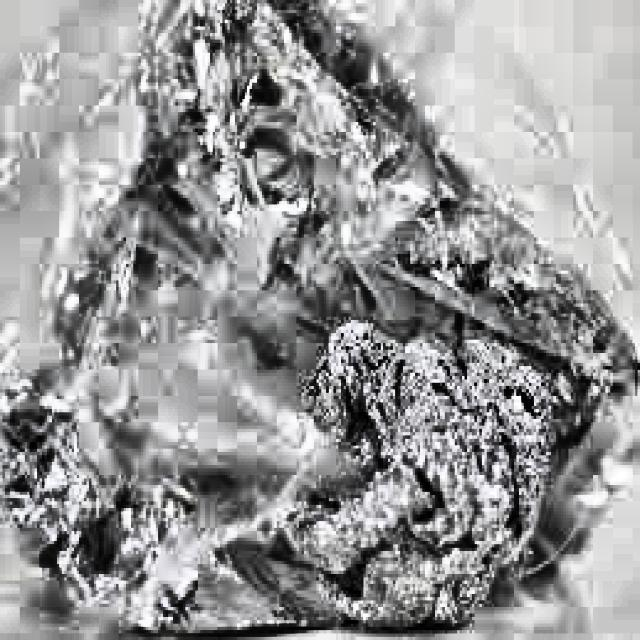Foil: (288, 310, 551, 640)
